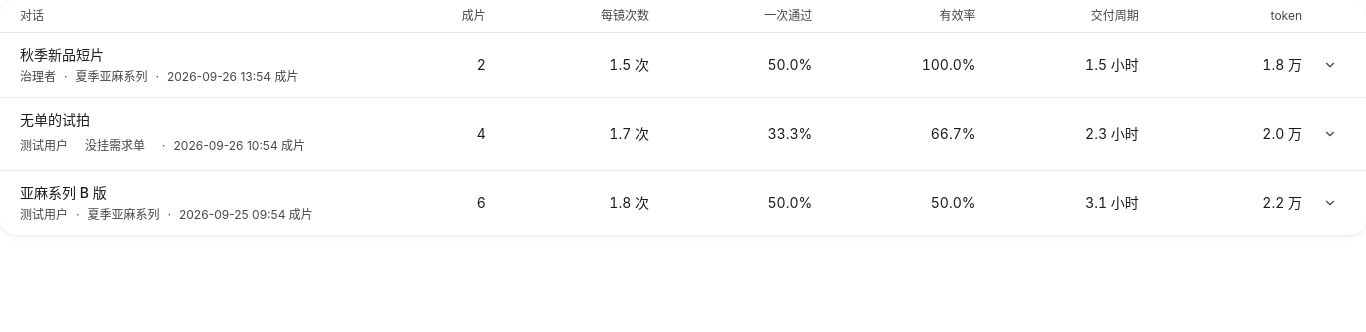
Test: ConversationsPanel › 列出有成片的对话，展开看到每镜出片次数与按模型用量
Expected: the number of list items is 3, [0,32,1365,97]; [0,97,1365,170]; [0,170,1365,235]
Expected: the text "夏季亚麻系列" next to "治理者" is shown, [76,69,148,84]
Step 1. Click the button named "展开镜头明细" next to "2.2 万" → x=1330, y=203, box [1314,187,1346,219]
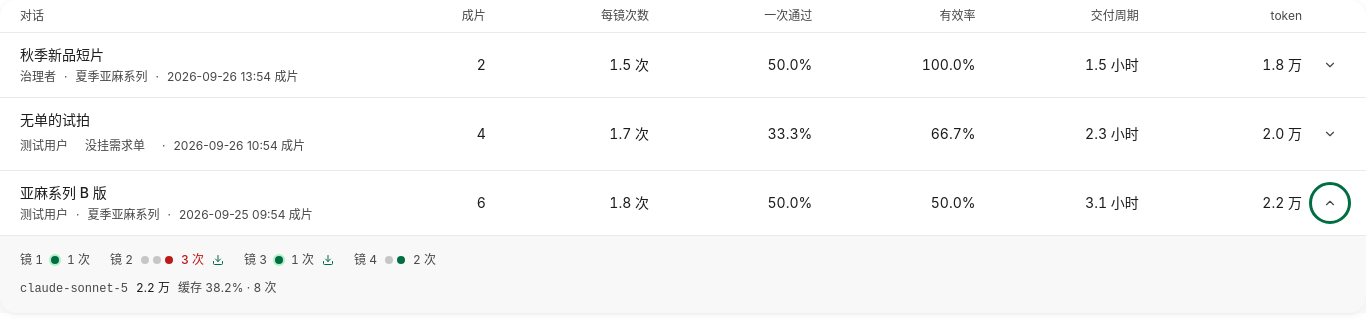
Result: the list item named "第 2 镜，出了 3 次，没有一次通过" is shown at [110,252,224,268]
Result: the list named "按模型用量" shows "claude-sonnet-5" at [20,282,128,296]
